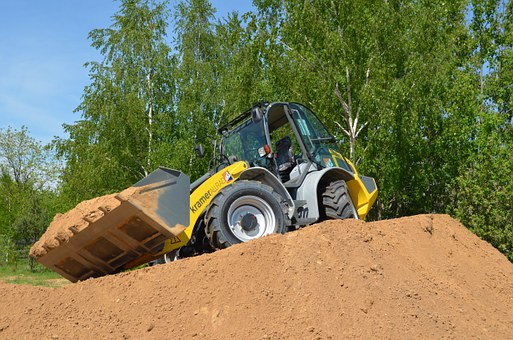excavator: (26, 99, 382, 285)
